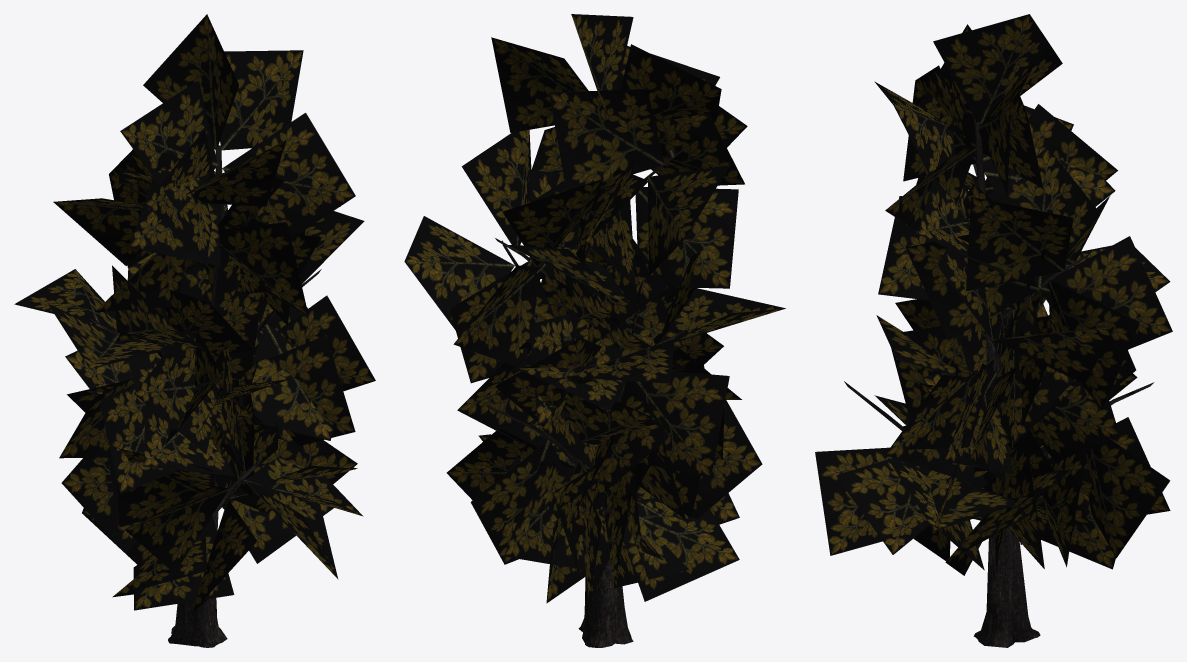
The model's file is tree_7.obj.
3 views of the same model, side by side, from view 1: azimuth 30°, elevation 25°; view 2: azimuth 150°, elevation 25°; view 3: azimuth 270°, elevation 25° (orthographic). The views are drawn at different scales.
Visible parts, largest first — view 1: tree_7_leaves, tree_7; view 2: tree_7_leaves, tree_7; view 3: tree_7_leaves, tree_7.
Part boxes in pixels (x1=…): tree_7_leaves: x1=14, y1=14, x2=375, y2=613; tree_7: x1=86, y1=145, x2=321, y2=647; tree_7_leaves: x1=404, y1=14, x2=785, y2=603; tree_7: x1=486, y1=143, x2=691, y2=647; tree_7_leaves: x1=815, y1=14, x2=1172, y2=575; tree_7: x1=844, y1=122, x2=1154, y2=647.
Size of the model in its own units: 4.48 by 8.29 by 4.25.
